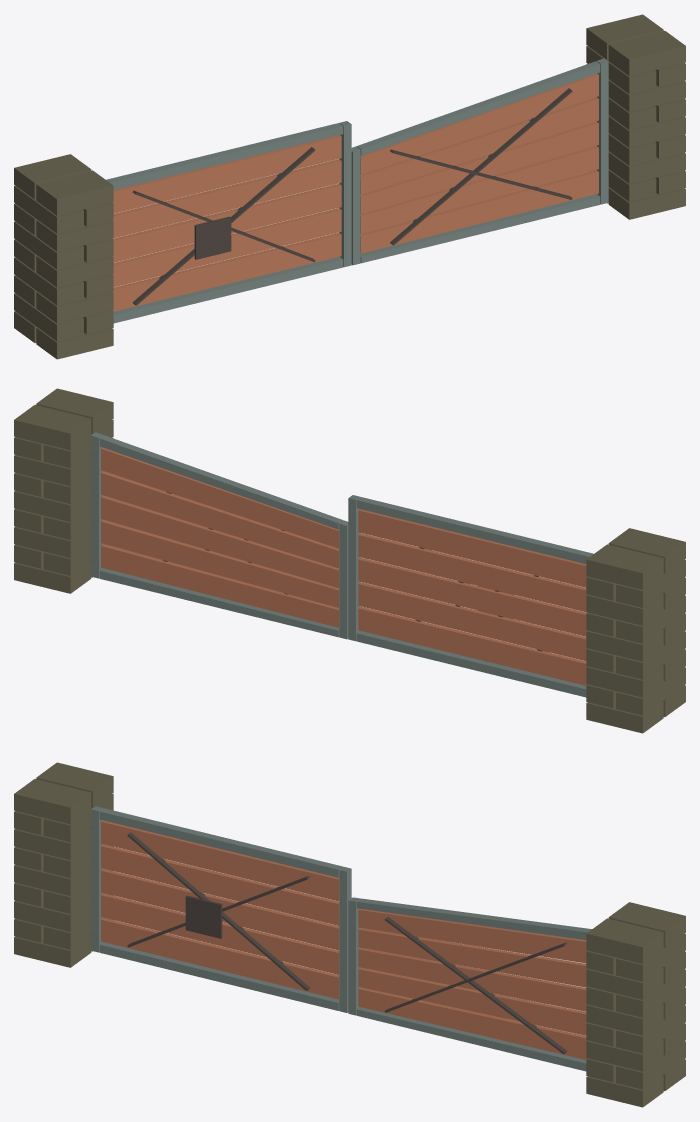
Rendered from SM_PuertaVehiculos_v2_Tablones_e1_Danado_LOD0.fbx.
The picture shows the model from 3 angles, top to bottom: view 1: azimuth 30°, elevation 25°; view 2: azimuth 150°, elevation 25°; view 3: azimuth 330°, elevation 25°; orthographic projection.
Parts seen in each view (by area): view 1: Hoja_O, Hoja_E, SM_bloques.puerta_estados_v9_LOD0; view 2: Hoja_O, Hoja_E, SM_bloques.puerta_estados_v9_LOD0; view 3: Hoja_O, SM_bloques.puerta_estados_v9_LOD0, Hoja_E.
Part boxes in pixels (x1=…): Hoja_O: x1=106, y1=121, x2=351, y2=323; Hoja_E: x1=351, y1=58, x2=608, y2=265; SM_bloques.puerta_estados_v9_LOD0: x1=14, y1=14, x2=685, y2=359; Hoja_O: x1=348, y1=495, x2=593, y2=697; Hoja_E: x1=91, y1=432, x2=348, y2=639; SM_bloques.puerta_estados_v9_LOD0: x1=14, y1=388, x2=685, y2=733; Hoja_O: x1=91, y1=806, x2=351, y2=1012; SM_bloques.puerta_estados_v9_LOD0: x1=14, y1=762, x2=685, y2=1107; Hoja_E: x1=348, y1=897, x2=591, y2=1071.
Bounding box in the file's own units: 9.78 × 2.38 × 1.16.
